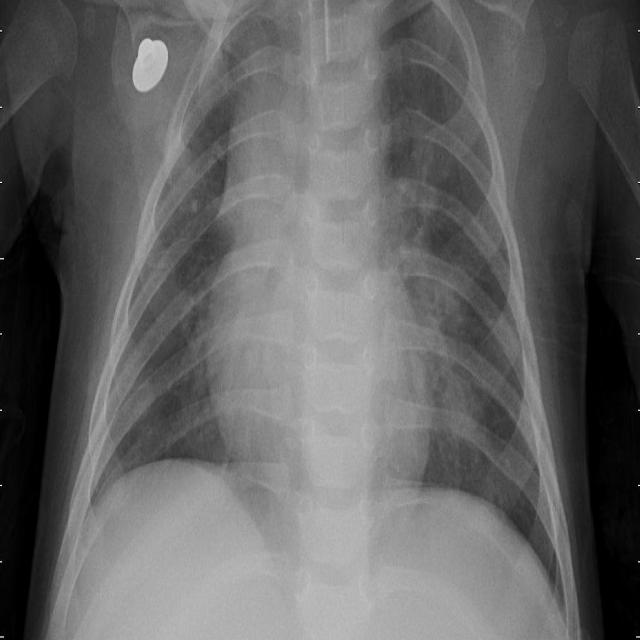low-pneumonia: (394, 131, 481, 447)
